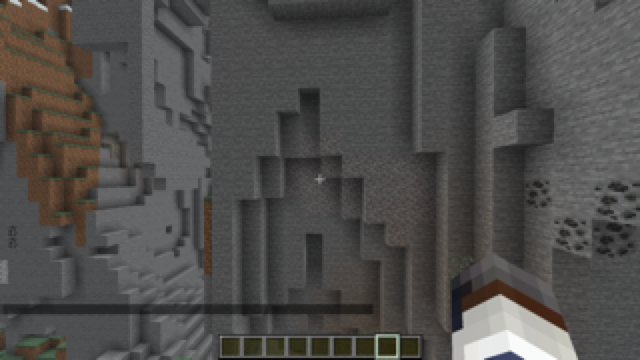coal: (521, 176, 640, 265), (6, 224, 19, 249)
